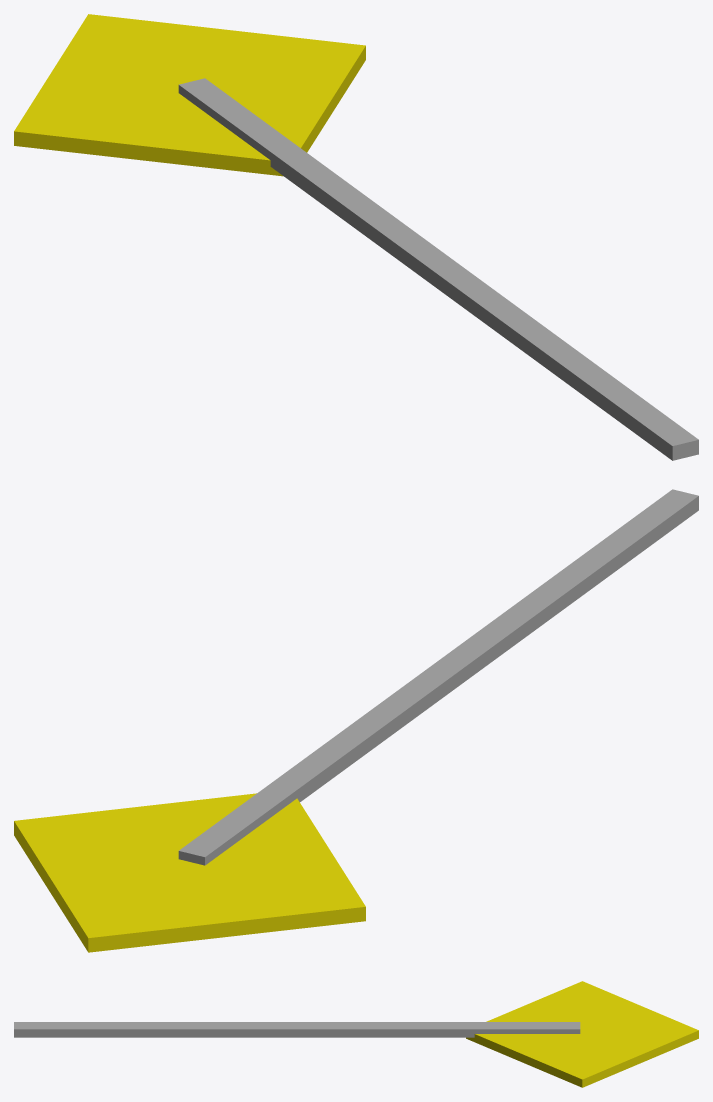
Rendered from wrongway.dae.
3 views of the same model, one above another, from view 1: azimuth 30°, elevation 25°; view 2: azimuth 150°, elevation 25°; view 3: azimuth 270°, elevation 25° (orthographic). The views are drawn at different scales.
Visible parts, largest first — view 1: Cube, Cube.10262; view 2: Cube, Cube.10262; view 3: Cube, Cube.10262.
Boxes of the visible parts, <box> form: Cube: <box>14,14,365,176</box>; Cube.10262: <box>178,78,698,460</box>; Cube: <box>14,793,365,952</box>; Cube.10262: <box>178,489,698,865</box>; Cube: <box>466,981,698,1087</box>; Cube.10262: <box>14,1022,580,1037</box>.
Bounding box in the file's own units: 0.9919 × 2.92 × 0.0687.
